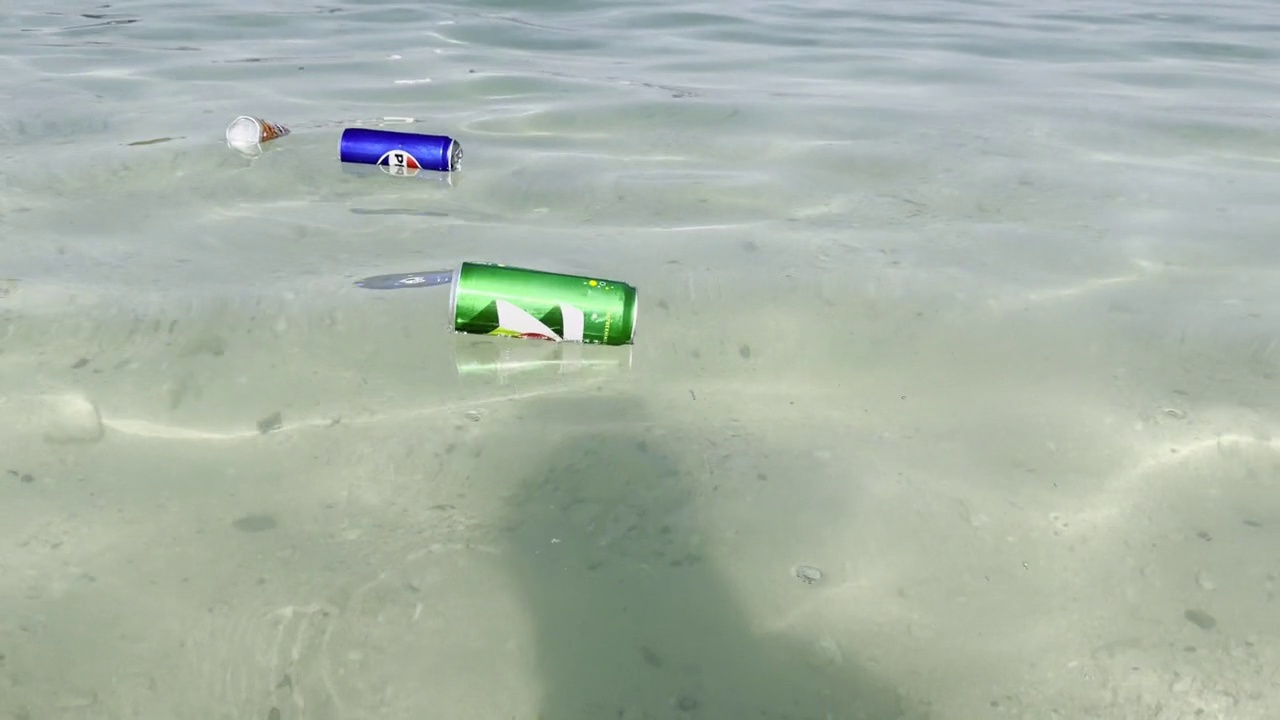debris: (434, 258, 649, 355), (328, 121, 476, 185), (217, 111, 303, 156)
